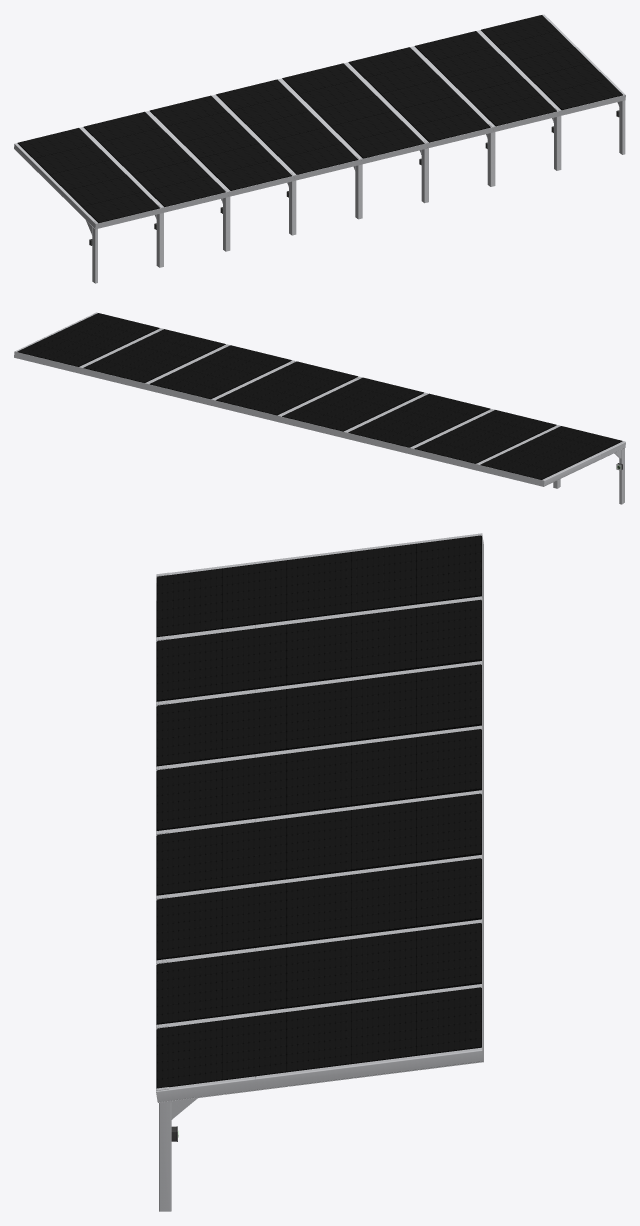
File: Cap_8.glb
3 renders of one model, top to bottom at view 1: azimuth 30°, elevation 25°; view 2: azimuth 150°, elevation 25°; view 3: azimuth 270°, elevation 25°, orthographic. The views are drawn at different scales.
Visible parts, largest first — view 1: Left.083, Middle.043, Middle.040, Middle.039, Middle.042, Middle.045, Middle.041, Middle.038, Right.010; view 2: Left.083, Middle.038, Middle.040, Middle.042, Middle.043, Middle.041, Middle.039, Middle.045; view 3: Middle.045, Middle.041, Middle.040, Middle.042, Middle.038, Middle.039, Middle.043, Left.083, Right.010.
Boxes of the visible parts, x1,y1,x2,y2 form: Left.083: (14,128,162,283); Middle.043: (410,31,559,186); Middle.040: (211,79,360,235); Middle.039: (145,95,294,251); Middle.042: (344,47,493,203); Middle.045: (476,14,625,170); Middle.041: (278,63,427,219); Middle.038: (79,111,228,267); Right.010: (542,14,625,154); Left.083: (477,426,625,504); Middle.038: (411,410,560,488); Middle.040: (278,377,428,438); Middle.042: (146,345,296,405); Middle.043: (80,329,229,389); Middle.041: (212,361,362,422); Middle.039: (345,393,494,454); Middle.045: (14,313,163,373); Middle.045: (156,984,483,1102); Middle.041: (156,790,483,897); Middle.040: (156,725,483,832); Middle.042: (156,854,483,962); Middle.038: (156,596,483,703); Middle.039: (156,661,483,768); Middle.043: (156,919,483,1026); Left.083: (156,533,483,639); Right.010: (156,1047,483,1211).
Bounding box in the file's own units: 21.36 × 3.11 × 5.7.
Materials: 5 (5 with a texture image).
